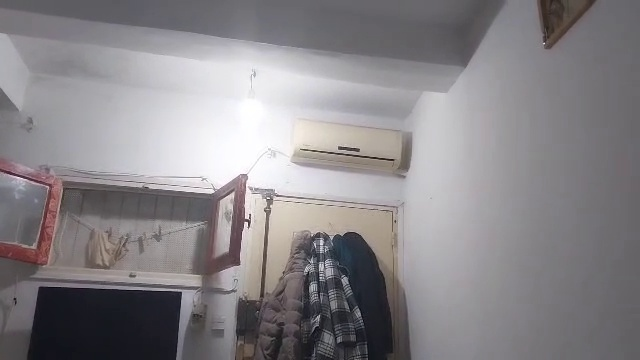air_conditioner: (290, 105, 415, 174)
